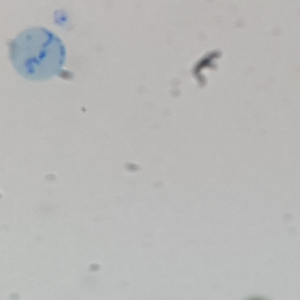aggregate reticulocyte: (7, 25, 68, 83)
